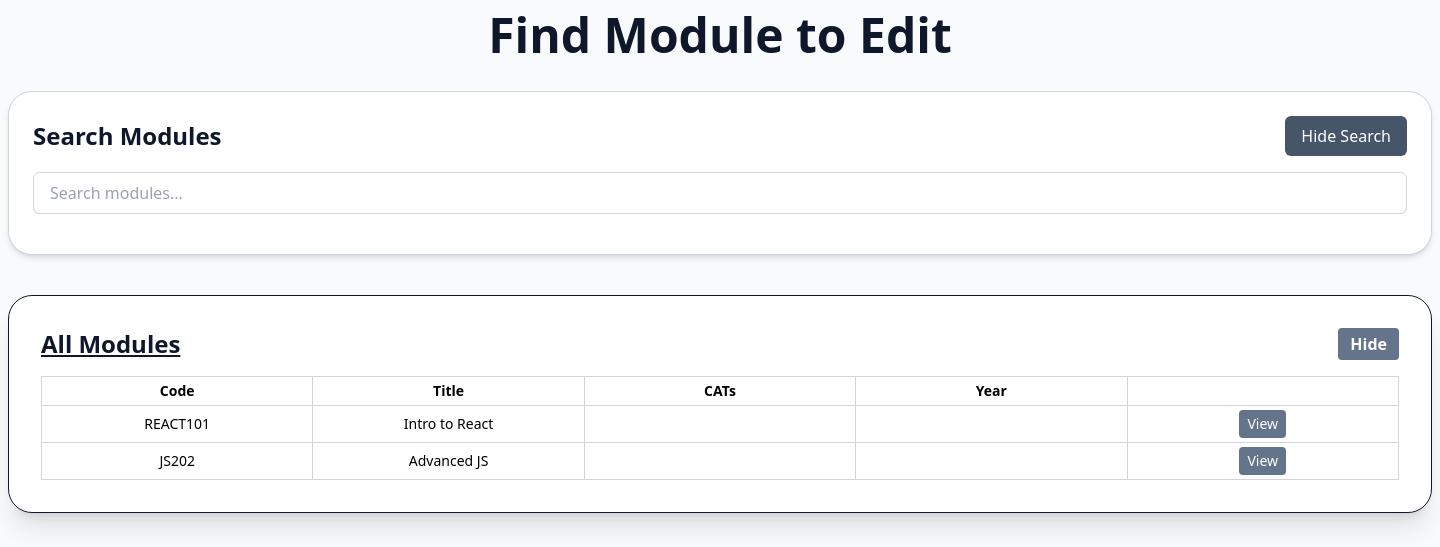
Test: EditModules › filters modules by search input
Type "react" into the field with placeholder "Search modules...".
click(720, 193); type("react")  # box 33,172 -> 1407,214
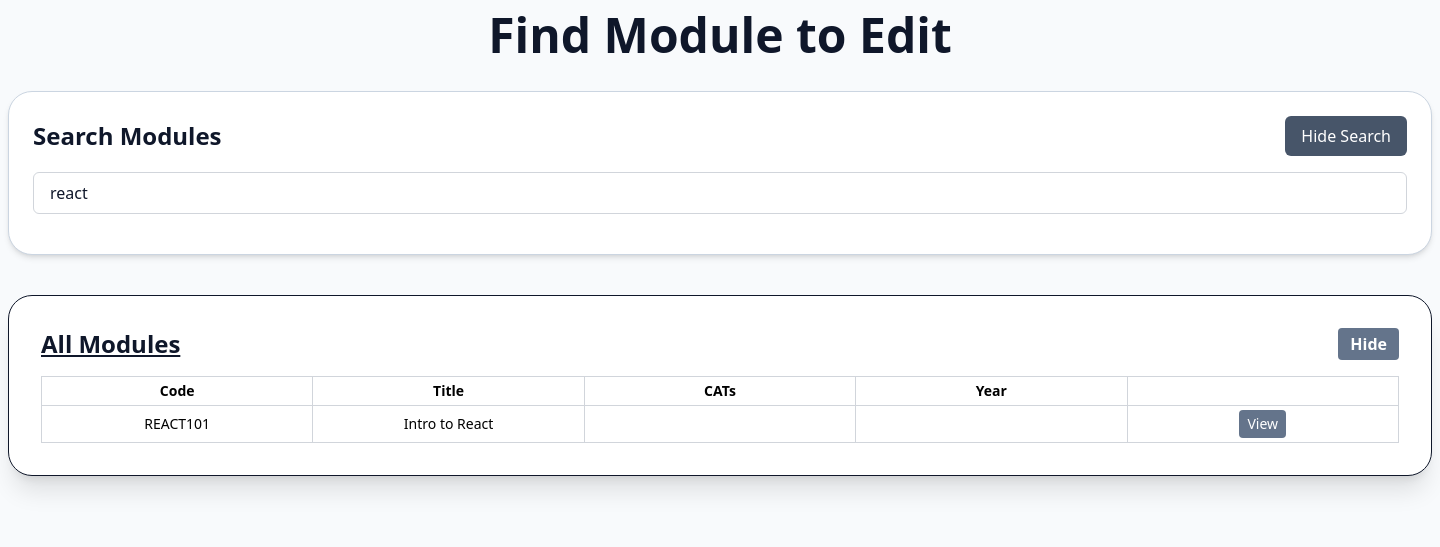
Expected: the text "Intro to React" is shown, 313,406 -> 584,442
Expected: the text "Advanced JS" is gone
